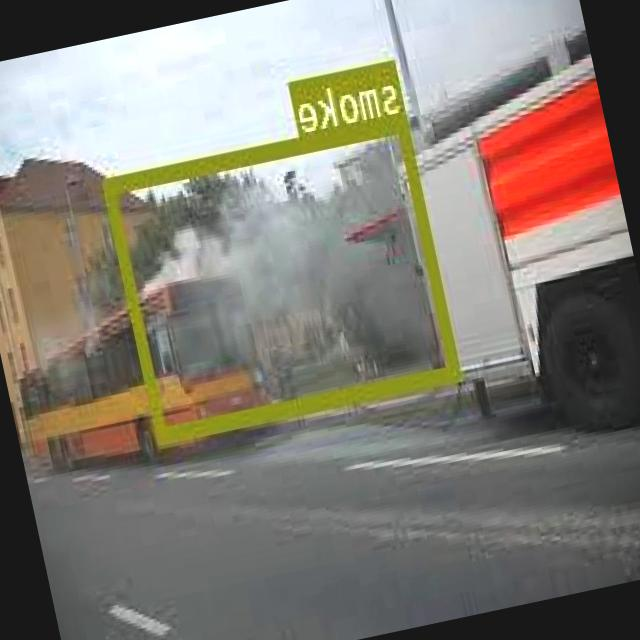smoke: (103, 113, 463, 440)
